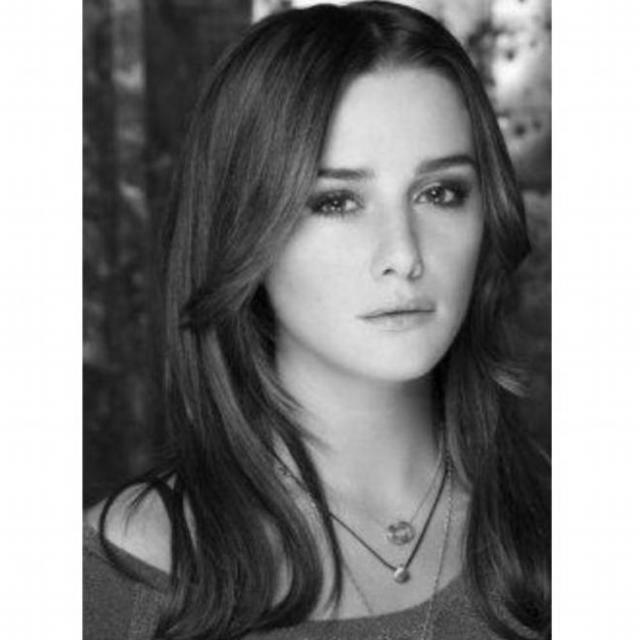real: (236, 58, 496, 388)
